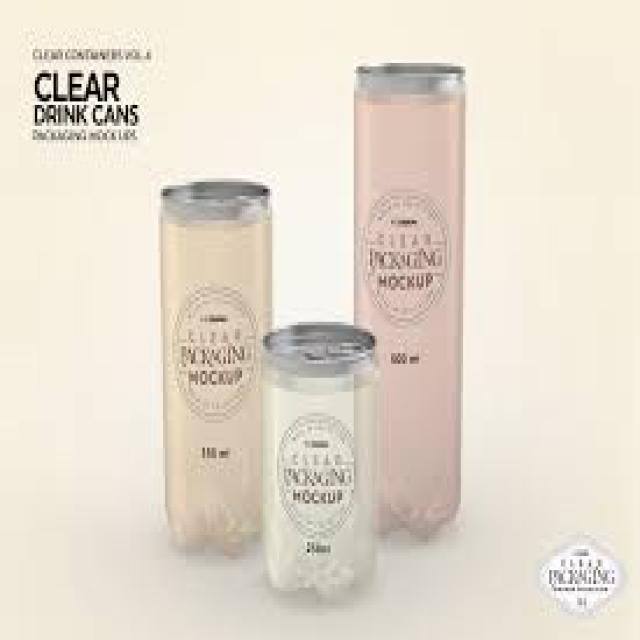Cans: (349, 53, 470, 535), (156, 168, 275, 552), (258, 311, 379, 602)
